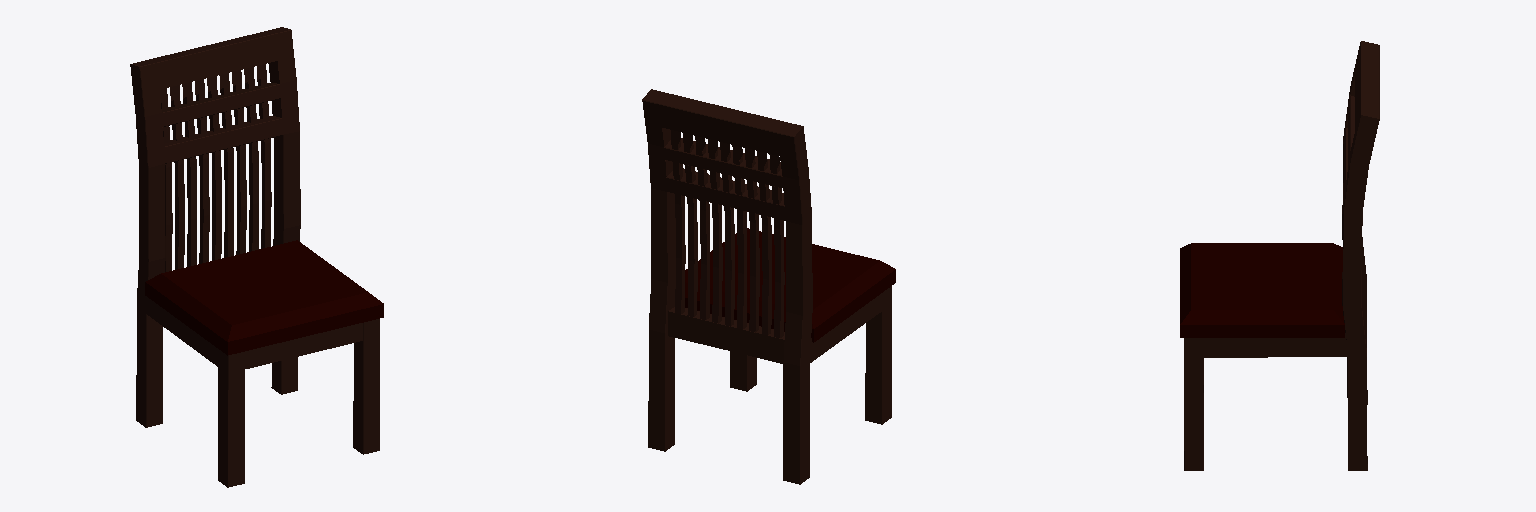
The model's file is WoodenChair1.obj.
The picture shows the model from 3 angles: view 1: azimuth 30°, elevation 25°; view 2: azimuth 150°, elevation 25°; view 3: azimuth 270°, elevation 25°; orthographic projection.
Parts seen in each view (by area): view 1: WoodenChair1_Cube.008; view 2: WoodenChair1_Cube.008; view 3: WoodenChair1_Cube.008.
Part boxes in pixels (x1,y1,x2,y2): WoodenChair1_Cube.008: (130, 27, 383, 487); WoodenChair1_Cube.008: (642, 89, 895, 484); WoodenChair1_Cube.008: (1180, 41, 1379, 470).
Size of the model in its own units: 0.4772 by 1.04 by 0.5267.